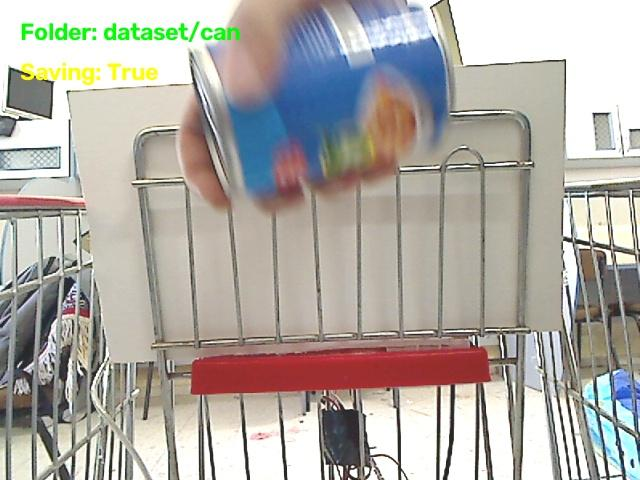can: (189, 0, 452, 199)
